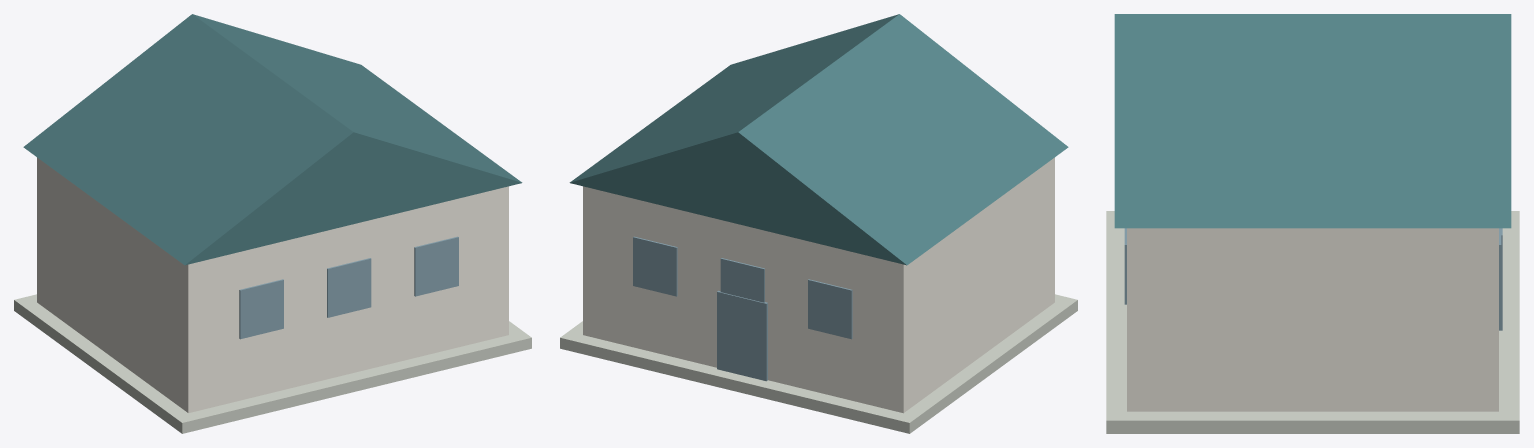
File: farm_house.glb
3 renders of one model, left to right at view 1: azimuth 30°, elevation 25°; view 2: azimuth 150°, elevation 25°; view 3: azimuth 270°, elevation 25°, orthographic. The views are drawn at different scales.
Visible parts, largest first — view 1: farm_house__roof, farm_house__walls, farm_house__plinth, farm_house__window, farm_house__window.004, farm_house__window.002; view 2: farm_house__roof, farm_house__walls, farm_house__plinth, farm_house__front_door, farm_house__window.001, farm_house__window.005, farm_house__window.003; view 3: farm_house__roof, farm_house__walls, farm_house__plinth.
Boxes of the visible parts, x1,y1,x2,y2 form: farm_house__roof: (23, 14, 522, 265); farm_house__walls: (37, 157, 508, 413); farm_house__plinth: (14, 294, 531, 433); farm_house__window: (239, 279, 283, 339); farm_house__window.004: (414, 236, 458, 296); farm_house__window.002: (327, 258, 371, 317); farm_house__roof: (569, 14, 1068, 265); farm_house__walls: (583, 157, 1054, 413); farm_house__plinth: (560, 294, 1077, 433); farm_house__front_door: (717, 290, 767, 381); farm_house__window.001: (808, 279, 852, 339); farm_house__window.005: (633, 236, 677, 296); farm_house__window.003: (720, 258, 764, 302); farm_house__roof: (1114, 14, 1511, 228); farm_house__walls: (1127, 228, 1498, 411); farm_house__plinth: (1106, 211, 1519, 433).
Bounding box in the file's own units: 12 × 8.42 × 10.
